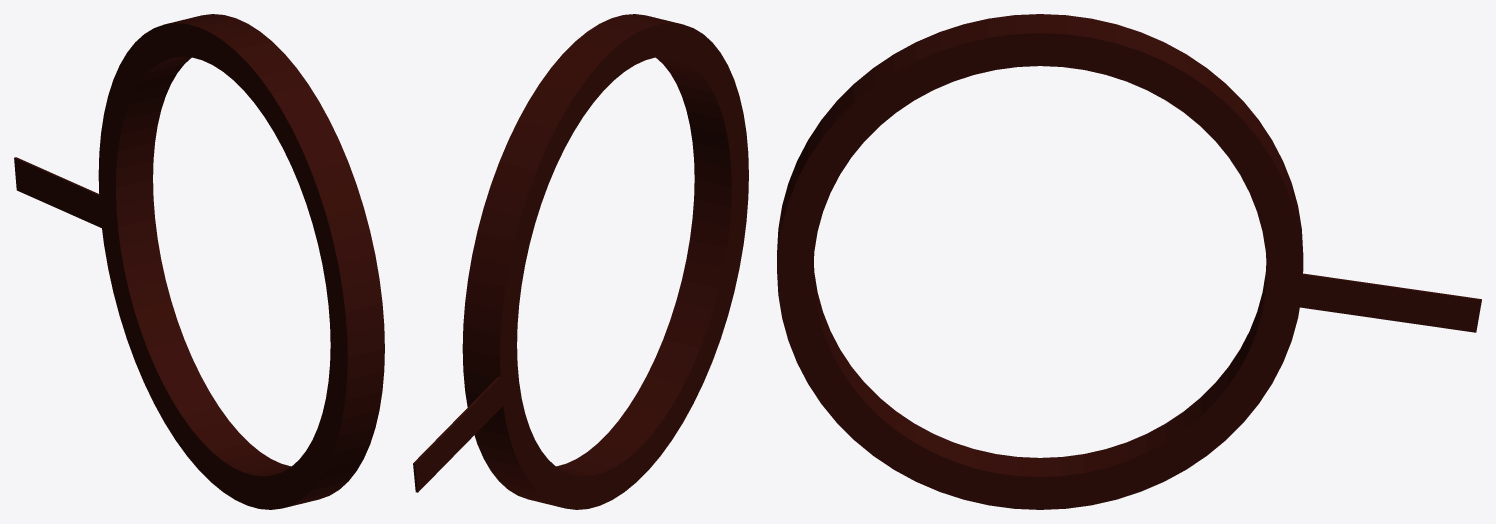
Rendered from fault_fretting.obj.
The picture shows the model from 3 angles, left to right: view 1: azimuth 30°, elevation 25°; view 2: azimuth 150°, elevation 25°; view 3: azimuth 270°, elevation 25°; orthographic projection. The views are drawn at different scales.
Parts seen in each view (by area): view 1: fault_fretting; view 2: fault_fretting; view 3: fault_fretting.
Part boxes in pixels (box(x1,y1,x2,y2)): fault_fretting: box(14, 14, 384, 509); fault_fretting: box(413, 14, 748, 509); fault_fretting: box(777, 14, 1481, 509).
Size of the model in its own units: 0.05 by 0.58 by 0.7771.
